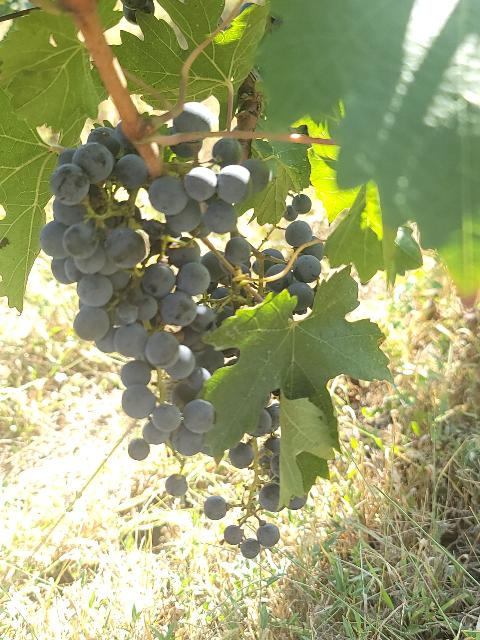grapes: (39, 126, 269, 460)
